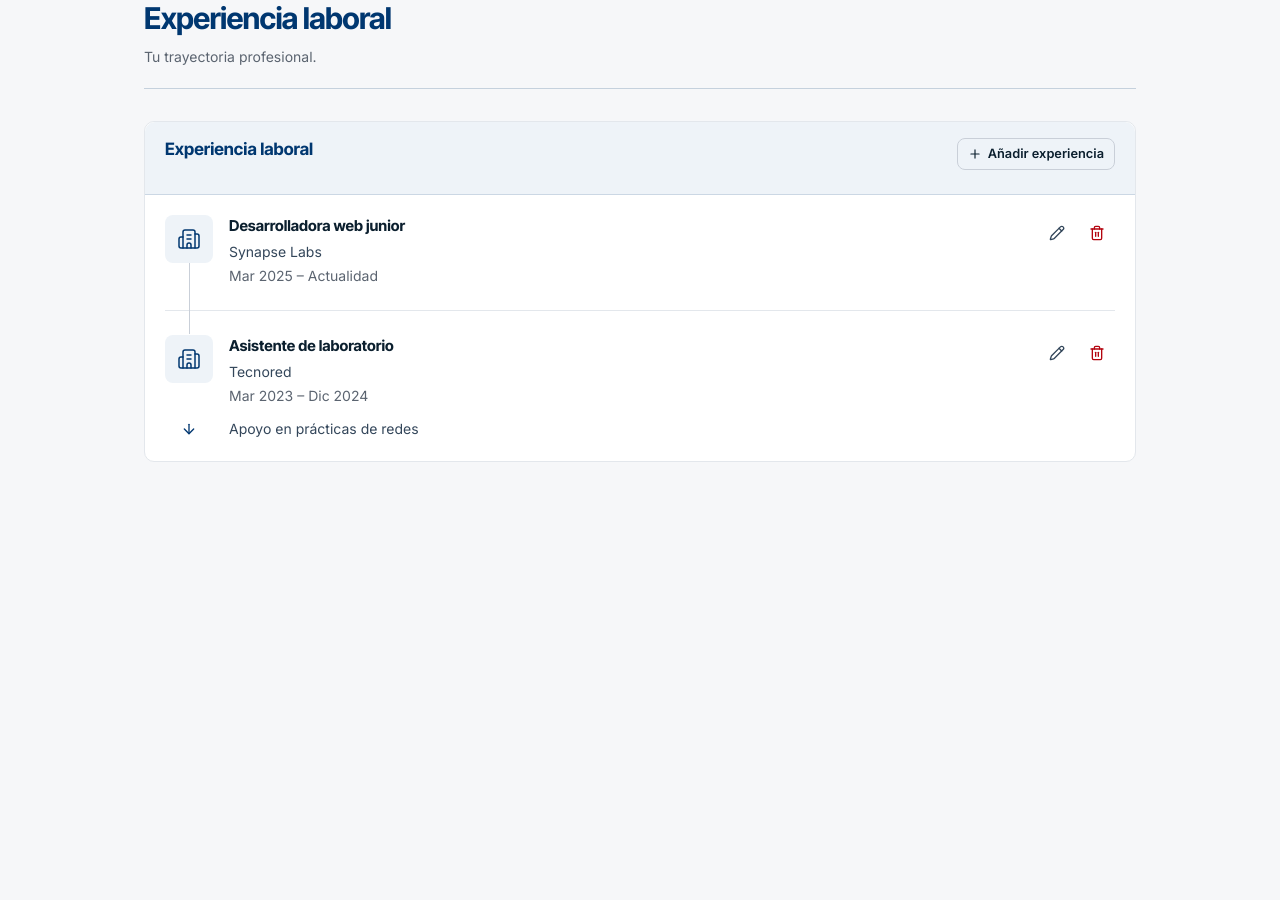
Scenario: WorkExperienceView › shows an error when the experience cannot be deleted
Expected: the heading "Asistente de laboratorio" is shown, [229,336,394,355]
Click the button named "Eliminar Asistente de laboratorio" at x=1097, y=353, box [1079,335,1115,371]
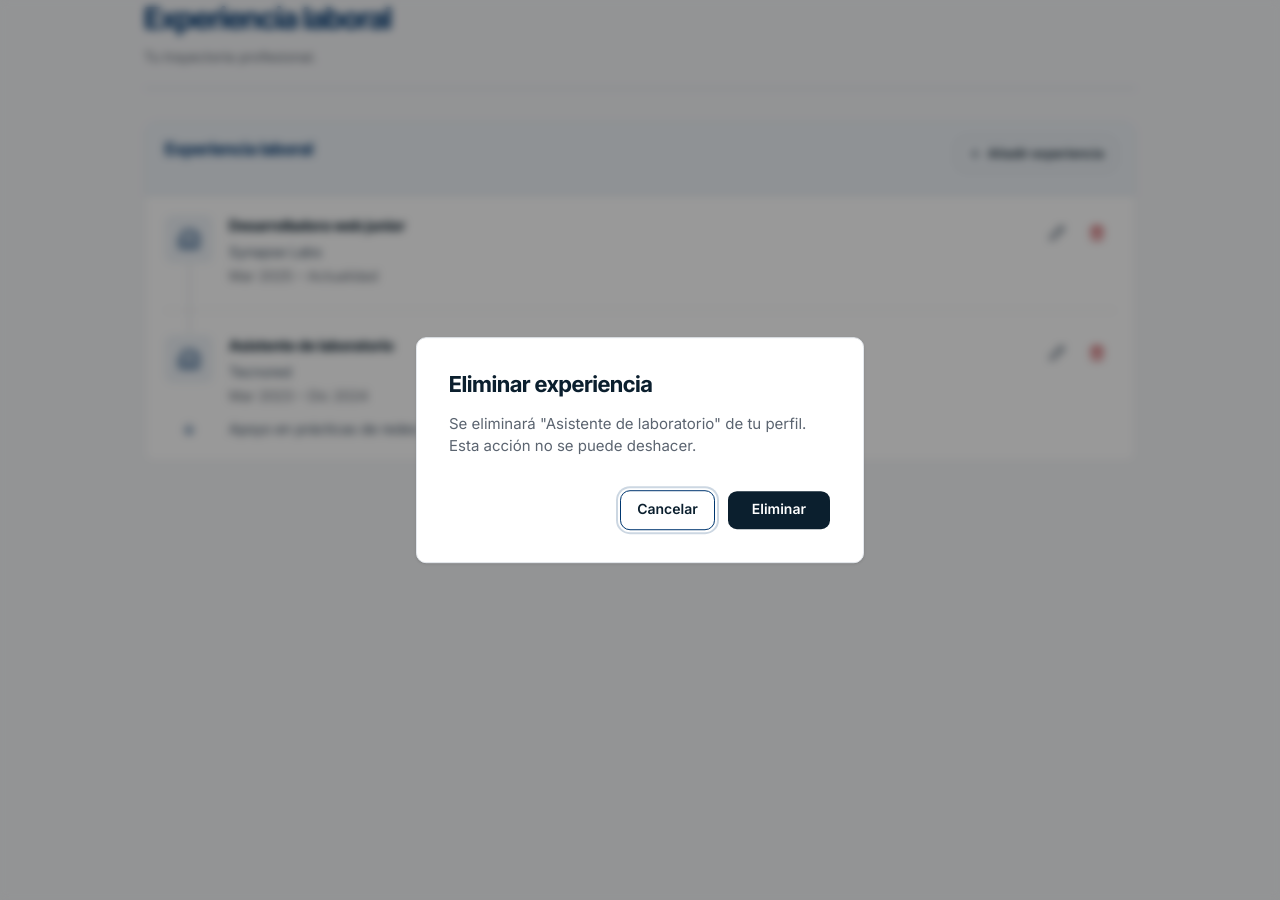
Click the button "Eliminar" at x=779, y=510, box [727,490,831,530]
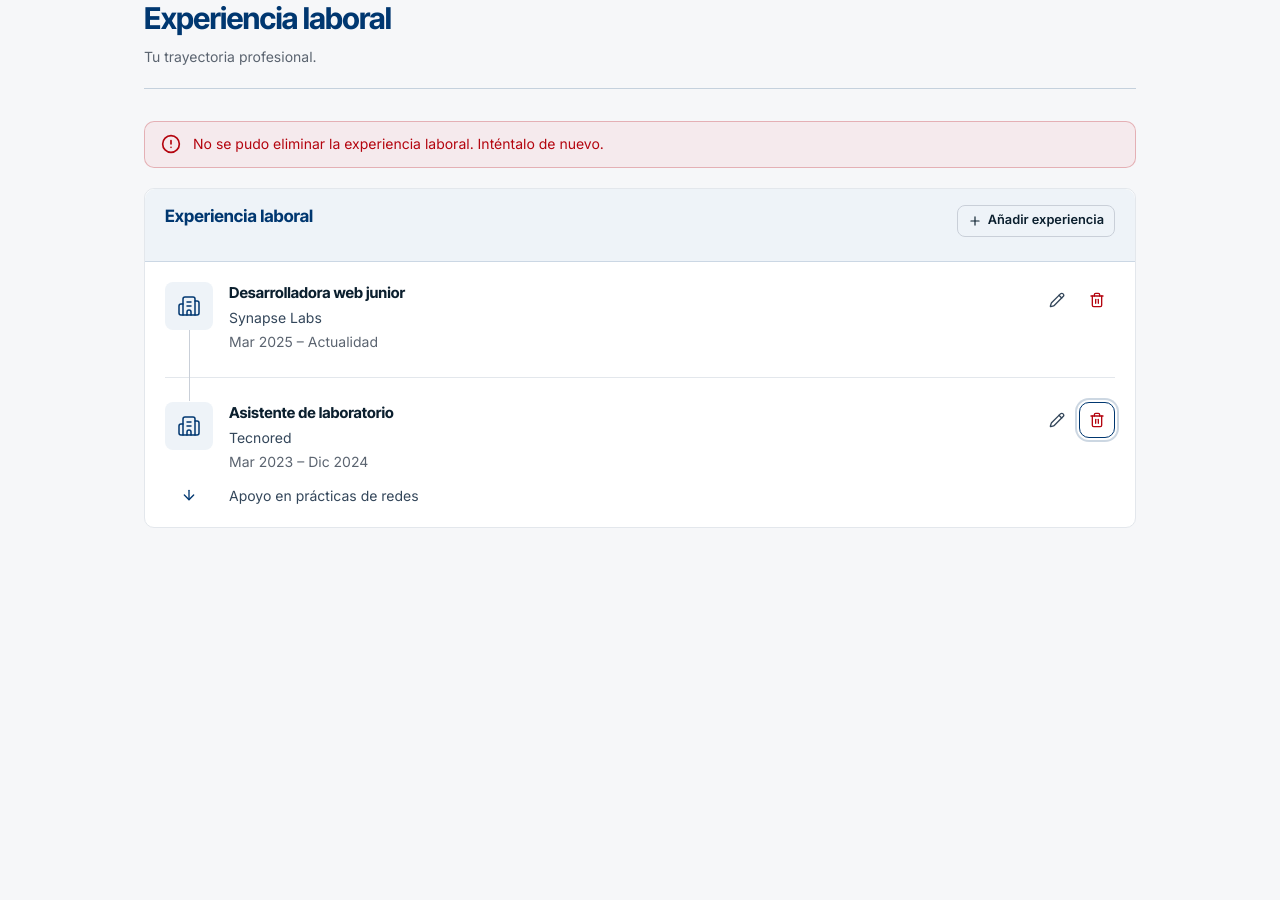
Expected: the heading "Asistente de laboratorio" is shown, [229,403,394,422]
Expected: the message reads "No se pudo eliminar la experiencia laboral. Inténtalo de nuevo.", [193,135,604,152]
